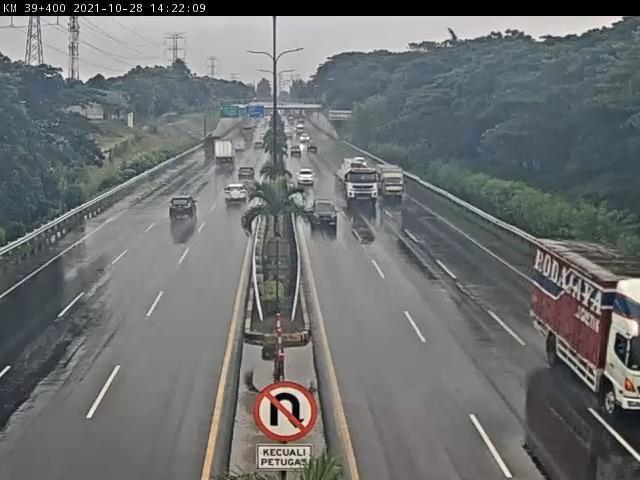car: (311, 200, 340, 232), (170, 197, 201, 221), (225, 185, 251, 206), (296, 169, 316, 186), (237, 166, 255, 181)
truck: (531, 237, 640, 406), (336, 161, 382, 206), (378, 164, 409, 200), (215, 141, 236, 166)
